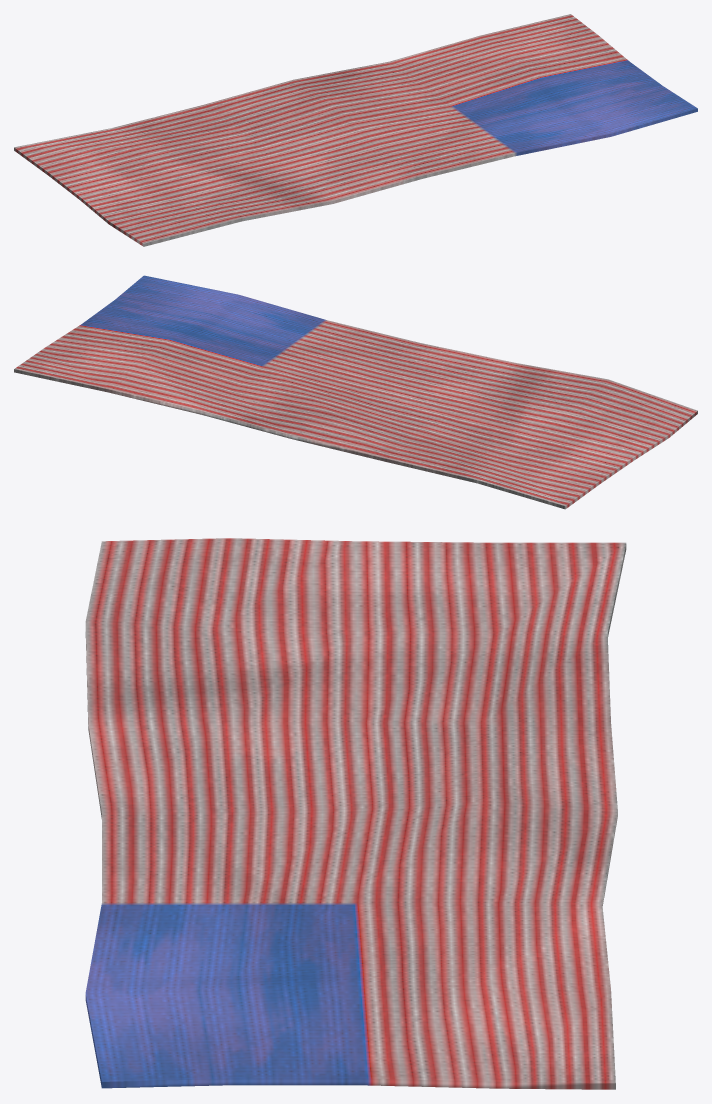
File: MB_Beach_Towel_03.fbx
3 views of the same model, one above another, from view 1: azimuth 30°, elevation 25°; view 2: azimuth 150°, elevation 25°; view 3: azimuth 270°, elevation 25° (orthographic). The views are drawn at different scales.
Visible parts, largest first — view 1: MB_Beach_Towel_03; view 2: MB_Beach_Towel_03; view 3: MB_Beach_Towel_03.
Boxes of the visible parts, box(x1,y1,x2,y2) form: MB_Beach_Towel_03: box(14, 14, 697, 246); MB_Beach_Towel_03: box(14, 275, 697, 509); MB_Beach_Towel_03: box(85, 538, 626, 1089).
Size of the model in its own units: 184 by 2.74 by 77.34.
